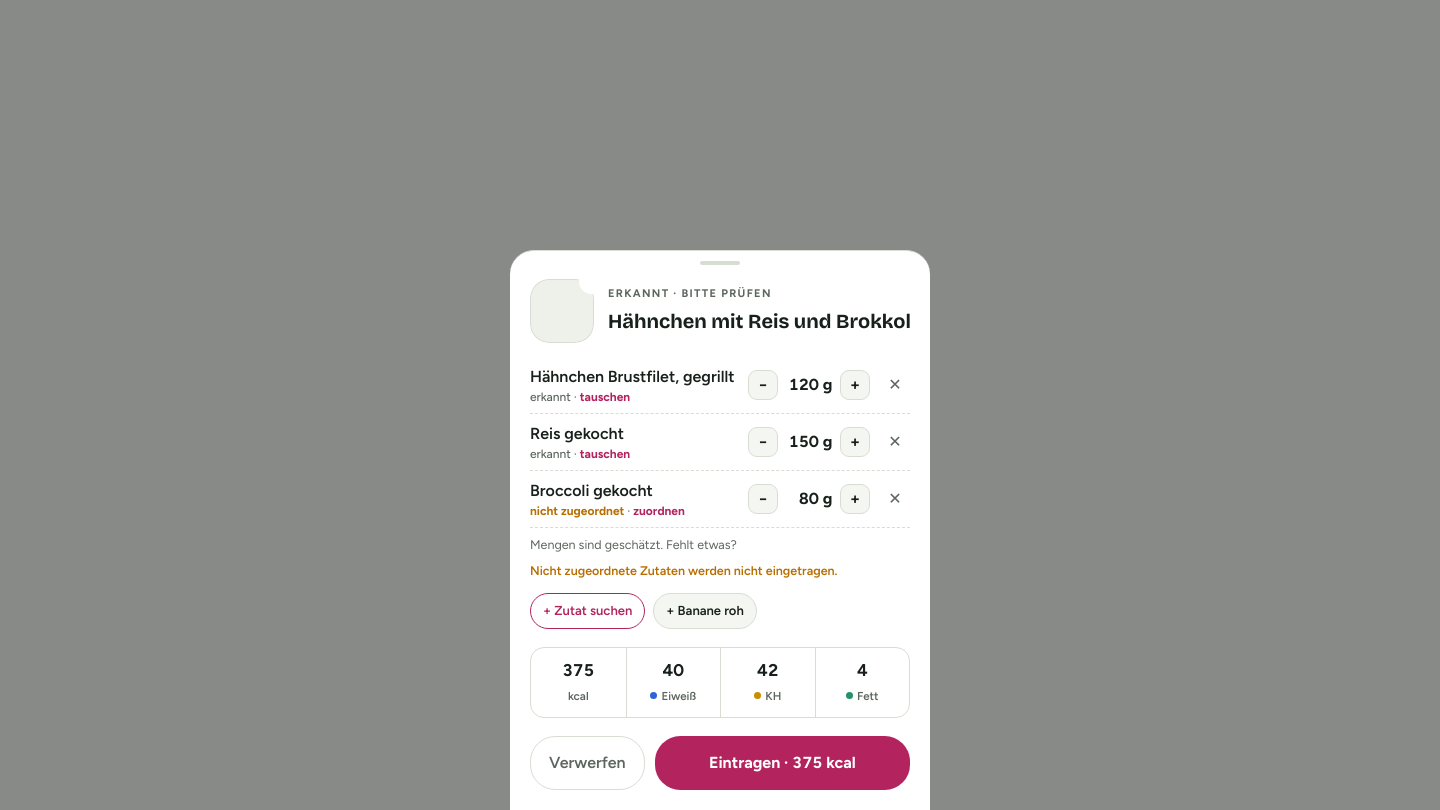
Test: an unmatched ingredient is removed with the cross; the note goes with it
The image size is (1440, 810).
What coordinates should you click on to do the following:
click the button named "Broccoli gekocht entfernen"
I would click on:
 (895, 498)
Its box is [880,484,910,514].
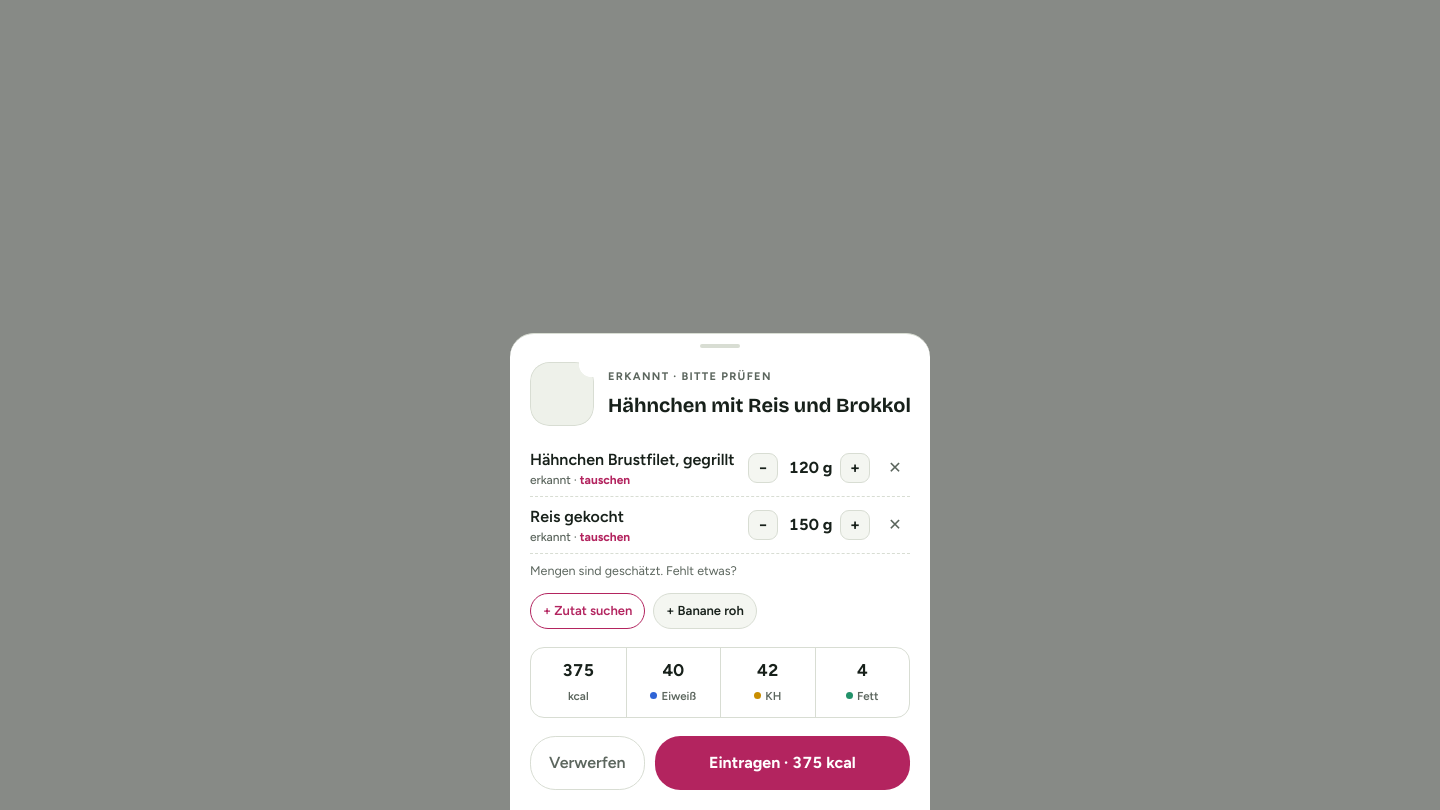
Expected: the text "nicht zugeordnet" is gone
Expected: the text "Nicht zugeordnete Zutaten werden nicht eingetragen." is gone
